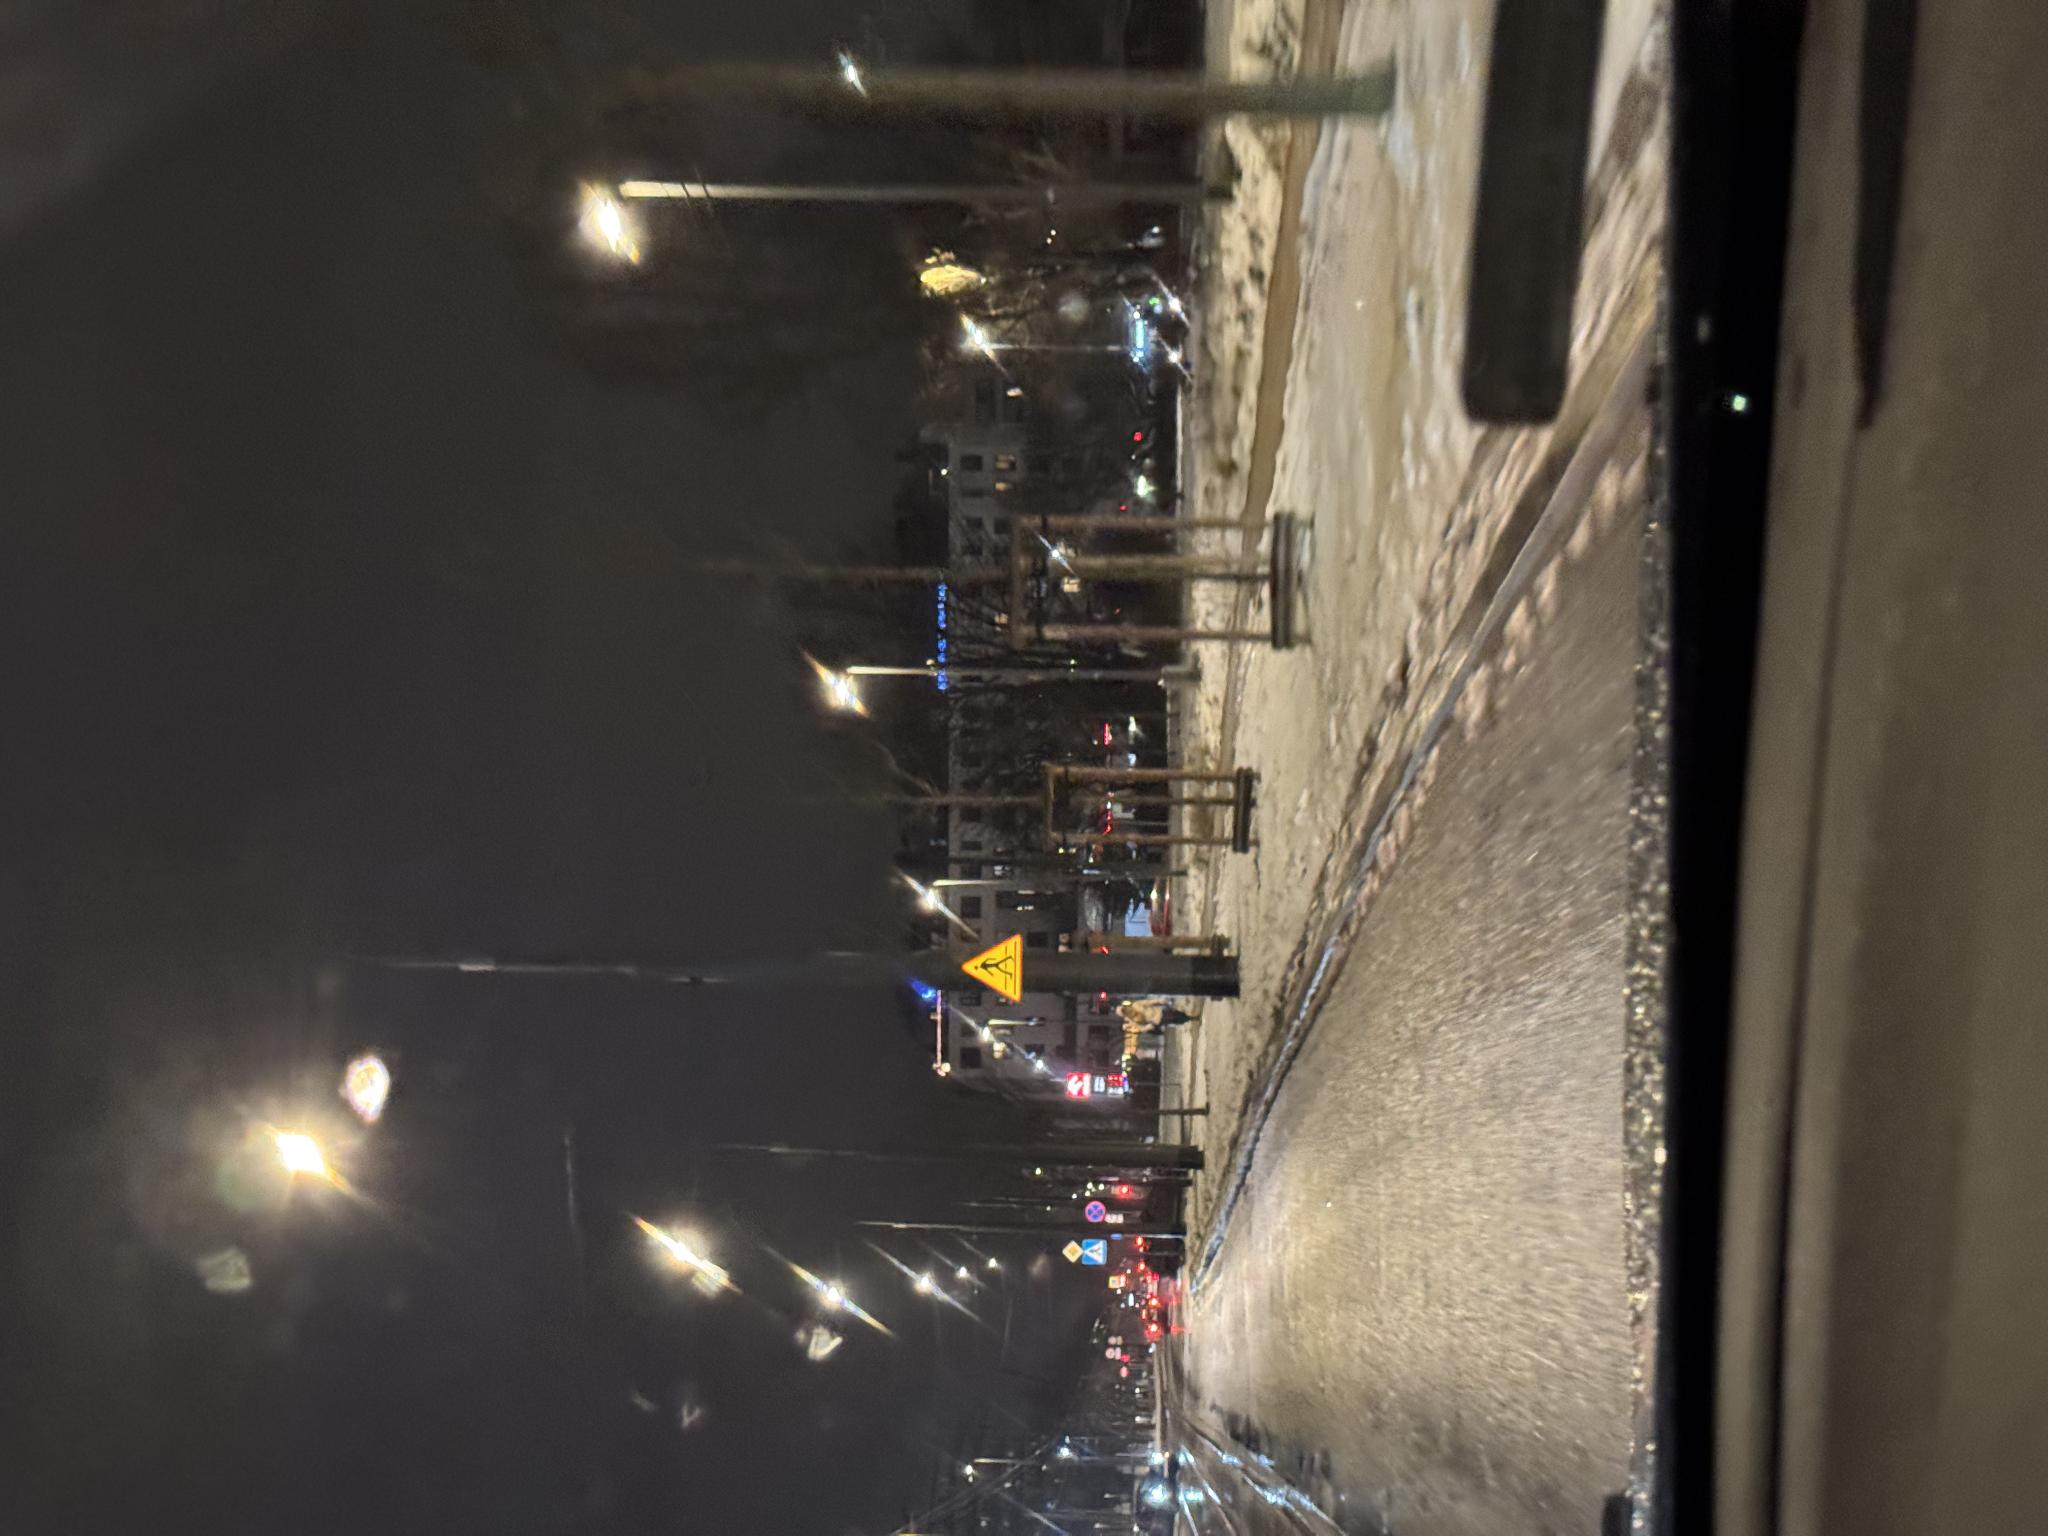information: (271, 1083, 297, 1107), (273, 1063, 295, 1084)
prohibitory: (314, 1084, 335, 1107)
warning: (534, 962, 603, 1025)
